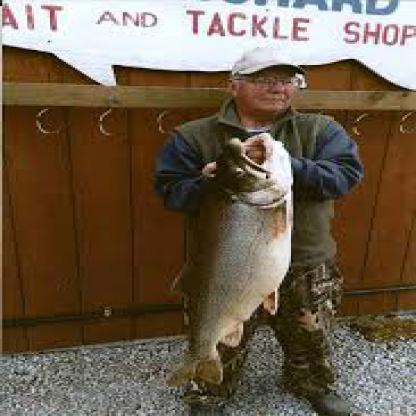fish: (156, 131, 298, 394)
